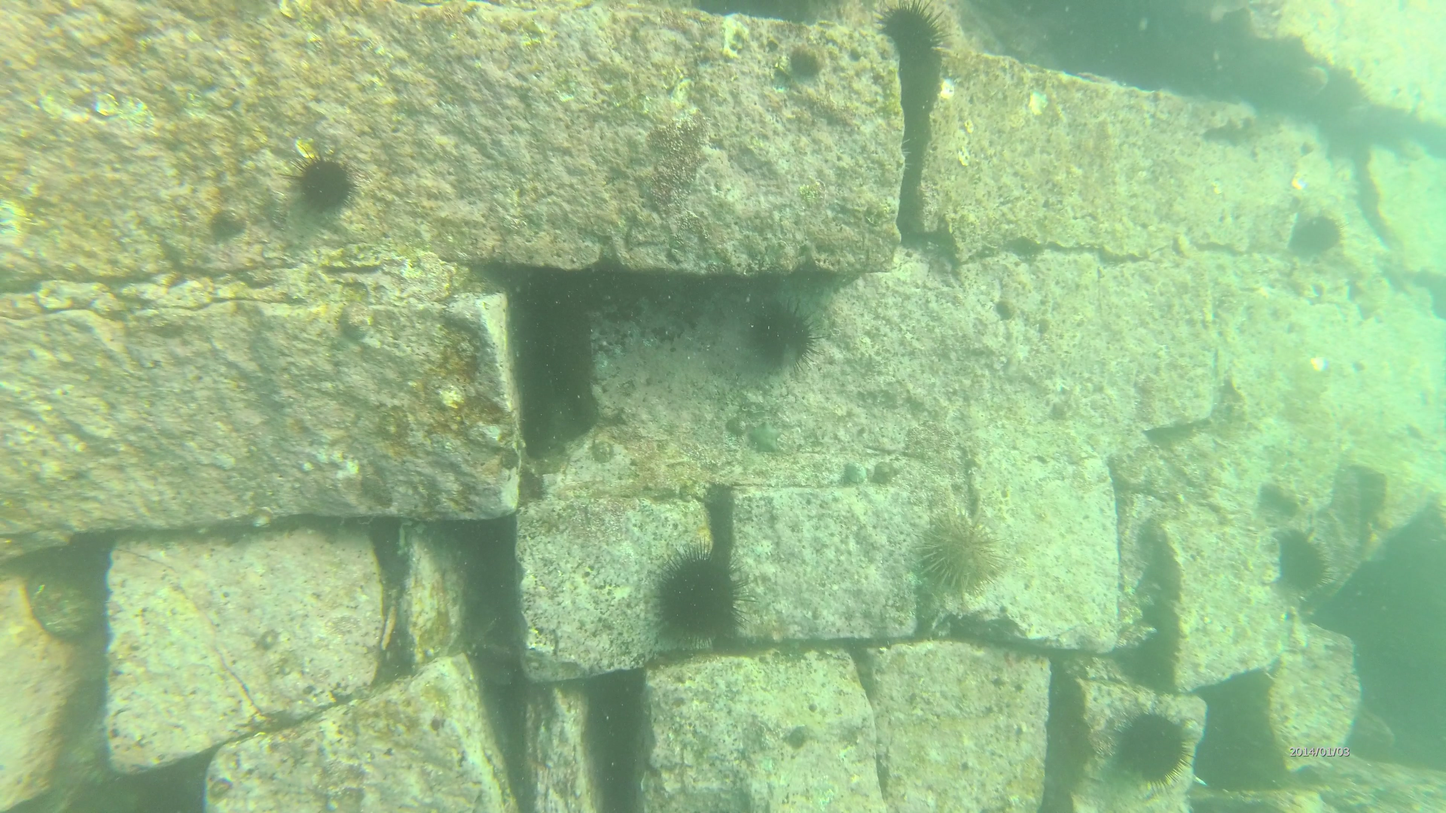starfish: (649, 542, 762, 652), (901, 505, 1009, 598), (1103, 700, 1203, 799), (735, 295, 826, 381), (284, 145, 367, 217), (874, 0, 954, 62), (1275, 523, 1335, 598), (1296, 211, 1350, 256)
